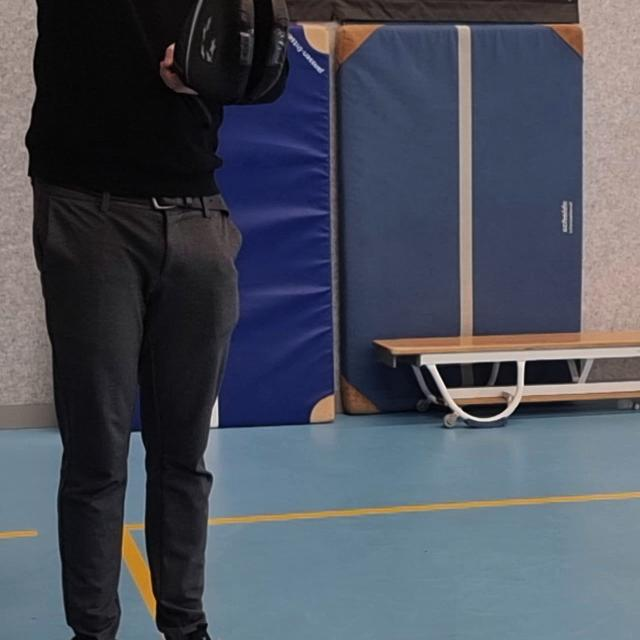paddle: (181, 0, 287, 100)
